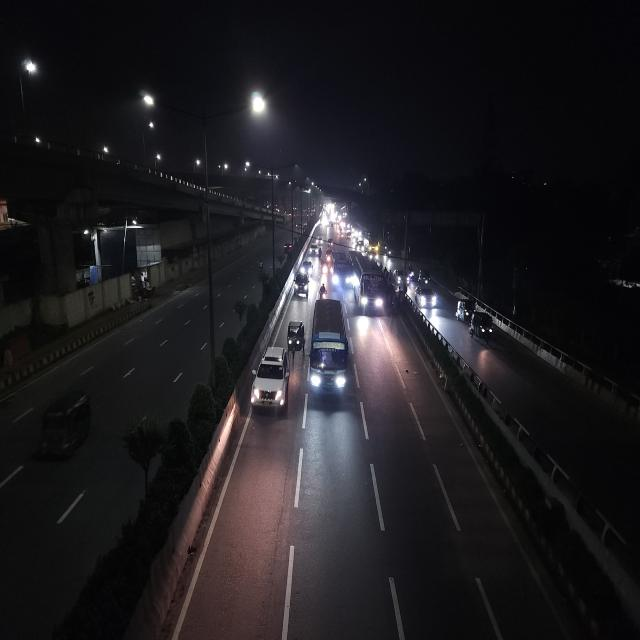bus: (308, 295, 352, 408), (351, 254, 387, 318), (331, 246, 353, 290)
car: (248, 344, 292, 421), (416, 284, 438, 310), (292, 272, 310, 300), (302, 257, 316, 276), (309, 242, 320, 259)
cng: (36, 385, 96, 469), (469, 310, 495, 342), (286, 318, 306, 356), (455, 297, 469, 323)
motorcycle: (317, 282, 329, 300)
pedestrian: (388, 266, 393, 286), (397, 286, 402, 305)
truck: (365, 231, 378, 253)
